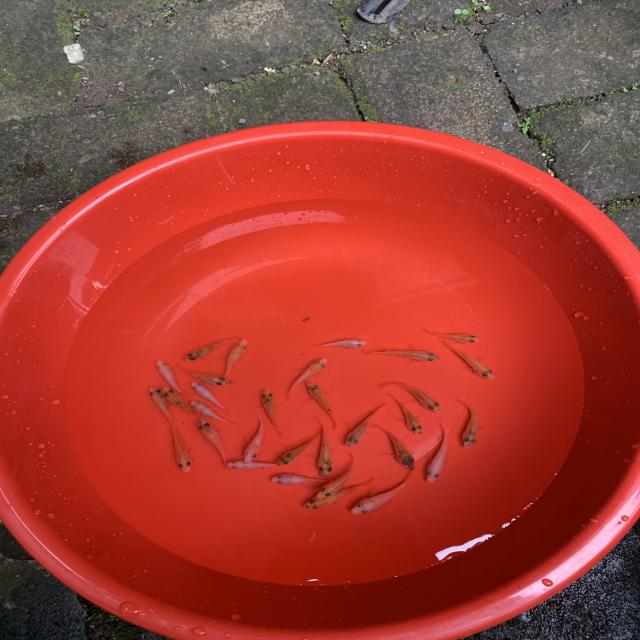nila: (340, 468, 412, 520), (298, 472, 383, 512), (372, 376, 445, 415), (340, 400, 394, 451), (437, 337, 499, 381), (312, 449, 361, 502), (422, 418, 456, 486), (273, 424, 327, 466), (180, 330, 240, 366), (372, 424, 420, 469), (409, 320, 486, 348), (384, 390, 428, 437), (282, 355, 328, 399), (193, 416, 231, 468), (187, 380, 240, 417), (450, 394, 484, 451), (187, 396, 242, 429), (360, 348, 450, 368), (312, 412, 338, 478), (163, 422, 194, 477), (305, 376, 338, 426), (146, 382, 178, 433), (174, 362, 237, 387), (255, 470, 340, 488), (160, 385, 201, 421), (301, 335, 374, 355), (221, 336, 253, 380), (240, 410, 265, 466), (259, 384, 284, 436), (224, 456, 290, 474), (156, 358, 187, 393)
